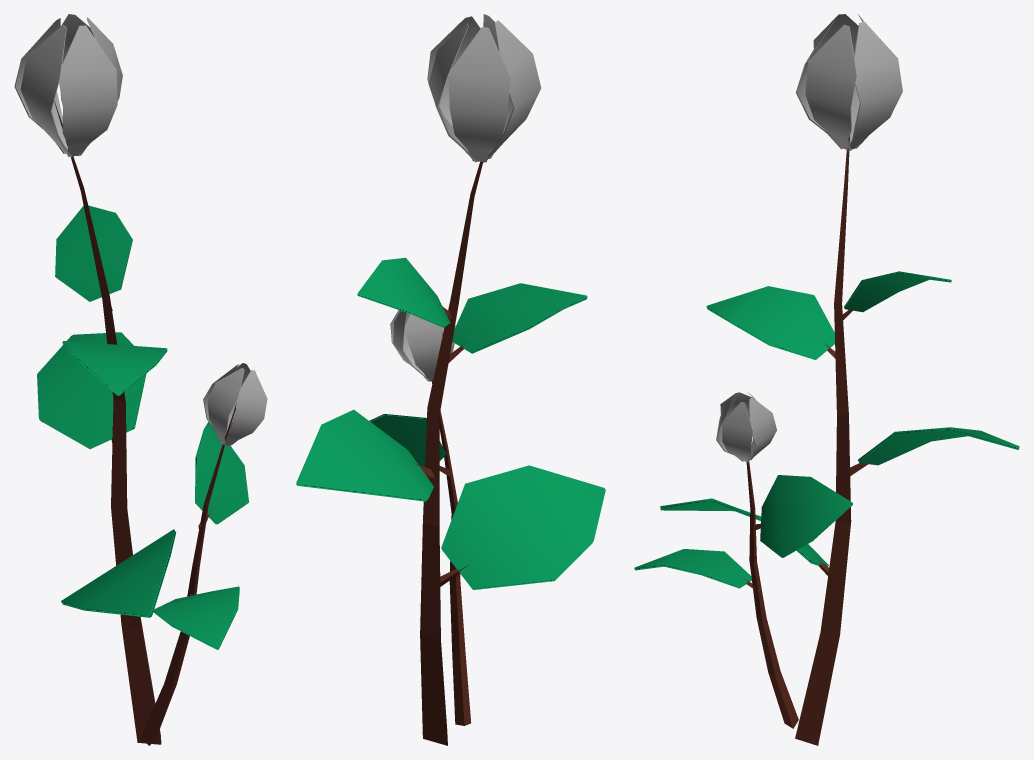
File: Flower2nd.fbx
The picture shows the model from 3 angles, left to right: view 1: azimuth 30°, elevation 25°; view 2: azimuth 150°, elevation 25°; view 3: azimuth 270°, elevation 25°; orthographic projection. The views are drawn at different scales.
Visible parts, largest first — view 1: Flower2nd2; view 2: Flower2nd2; view 3: Flower2nd2.
Boxes of the visible parts, <box> form: Flower2nd2: <box>14,14,267,745</box>; Flower2nd2: <box>296,14,605,745</box>; Flower2nd2: <box>634,14,1019,745</box>.
Bounding box in the file's own units: 15 × 51.25 × 25.79.
